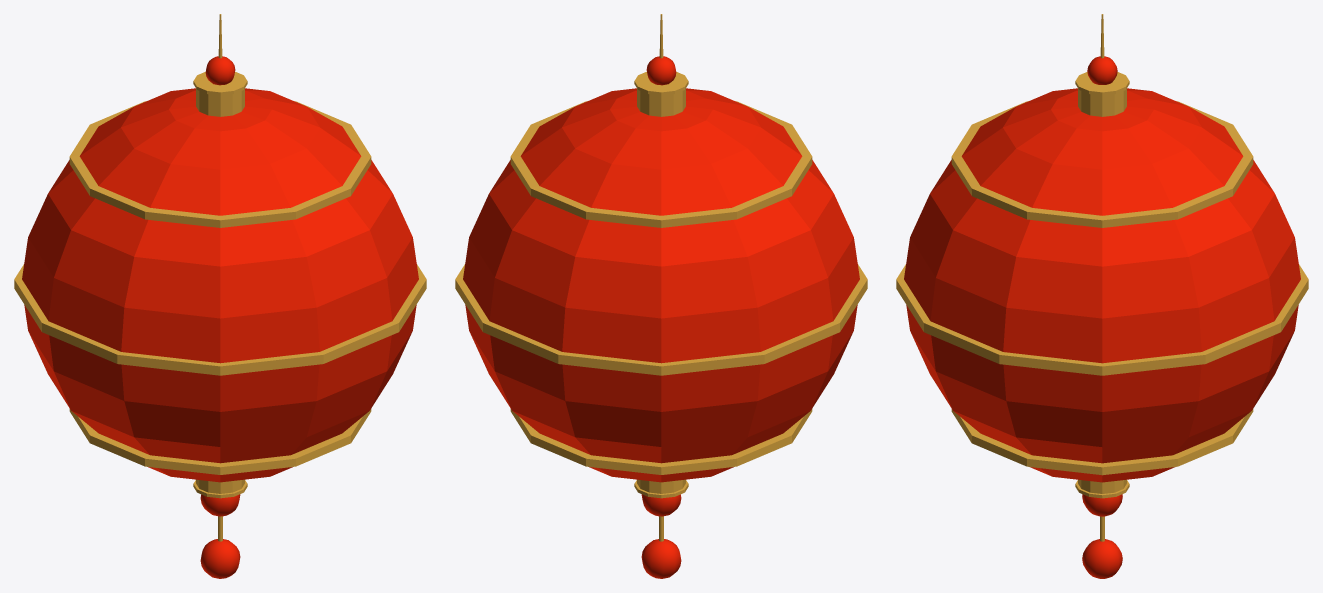
Rendered from Lantern_1.fbx.
The picture shows the model from 3 angles, left to right: view 1: azimuth 30°, elevation 25°; view 2: azimuth 150°, elevation 25°; view 3: azimuth 270°, elevation 25°; orthographic projection.
Visible parts, largest first — view 1: Lantern_1; view 2: Lantern_1; view 3: Lantern_1.
Part boxes in pixels (left/top/right/bottom): Lantern_1: left=14, top=14, right=426, bottom=578; Lantern_1: left=455, top=14, right=867, bottom=578; Lantern_1: left=896, top=14, right=1308, bottom=578.
Bounding box in the file's own units: 41.71 × 62.81 × 41.71.
